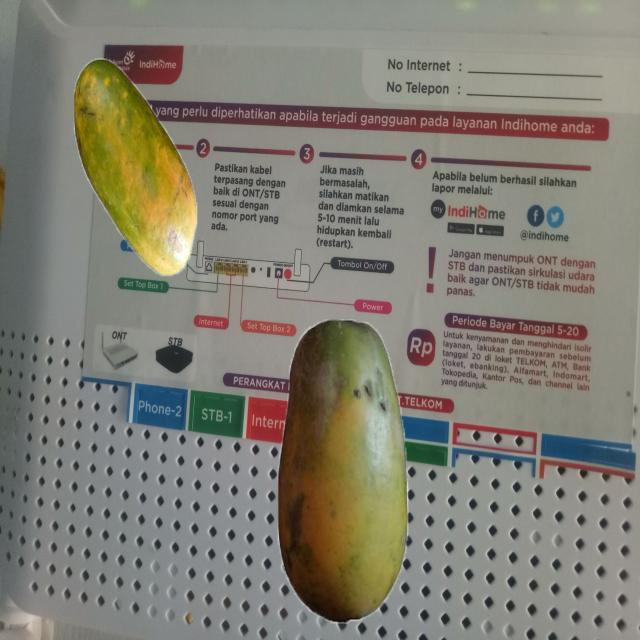Pepaya rippen: (266, 316, 412, 620), (66, 70, 198, 277)
